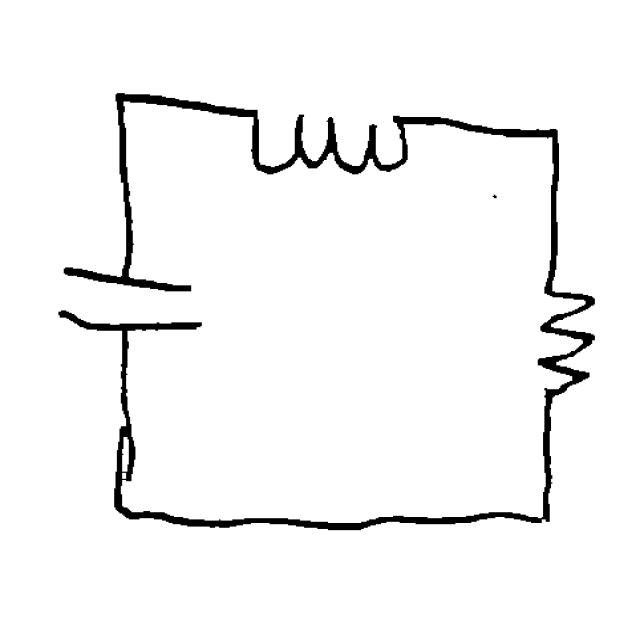capacitor: (40, 251, 212, 349)
inductor: (226, 92, 430, 190)
resistor: (522, 260, 606, 412)
